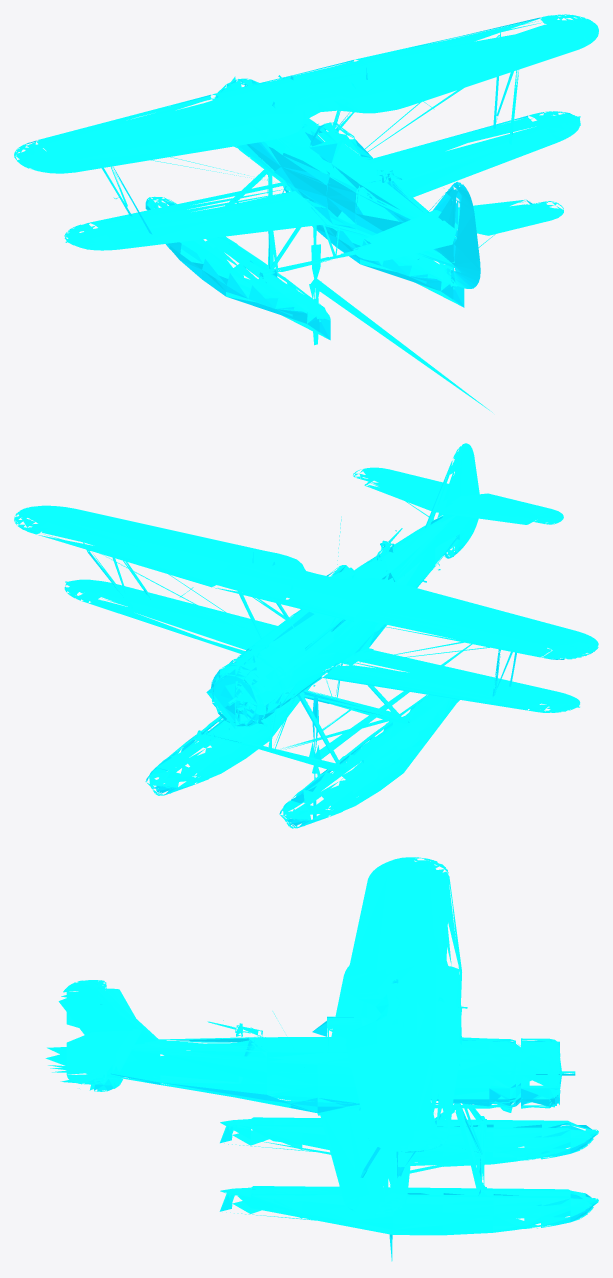
File: PHAS002.glb
3 views of the same model, one above another, from view 1: azimuth 30°, elevation 25°; view 2: azimuth 150°, elevation 25°; view 3: azimuth 270°, elevation 25° (orthographic). The views are drawn at different scales.
Visible parts, largest first — view 1: misc; view 2: misc; view 3: misc.
Part boxes in pixels (box(x1,y1,x2,y2)): misc: box(14, 14, 598, 412); misc: box(14, 443, 598, 828); misc: box(45, 857, 598, 1261).
Bounding box in the file's own units: 0.8025 × 0.3583 × 0.6737.
